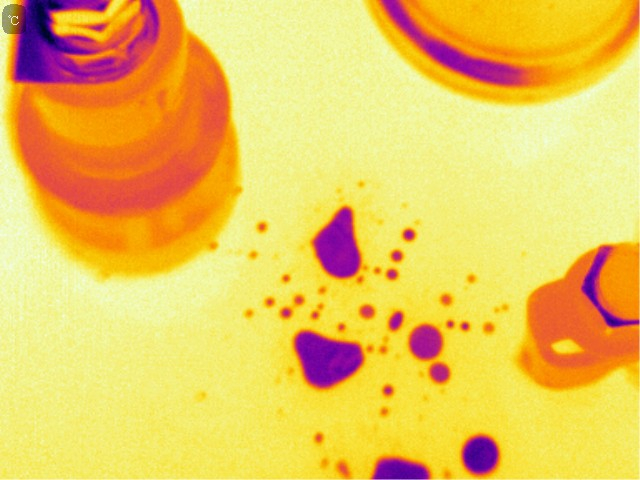Water: (311, 204, 368, 280), (294, 328, 365, 384), (461, 433, 504, 480), (365, 453, 432, 480), (402, 322, 449, 360), (391, 226, 411, 285), (425, 360, 455, 386), (385, 303, 408, 332), (455, 321, 495, 333), (379, 383, 394, 411), (309, 301, 327, 322), (336, 455, 352, 477), (275, 305, 293, 322), (464, 270, 480, 289), (356, 305, 376, 320), (312, 428, 329, 445), (246, 222, 270, 234), (491, 300, 512, 312), (261, 292, 276, 308), (240, 304, 254, 320), (293, 291, 307, 307), (247, 246, 260, 261), (316, 283, 332, 295), (318, 452, 329, 468), (338, 318, 347, 333), (442, 292, 453, 304), (280, 271, 291, 283)
